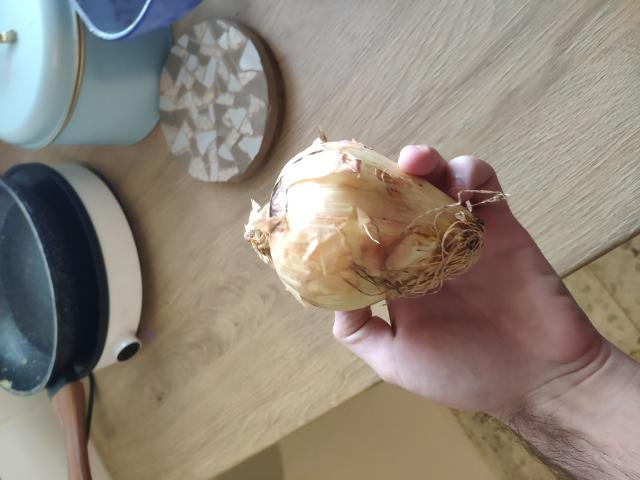onion: (252, 132, 492, 312)
